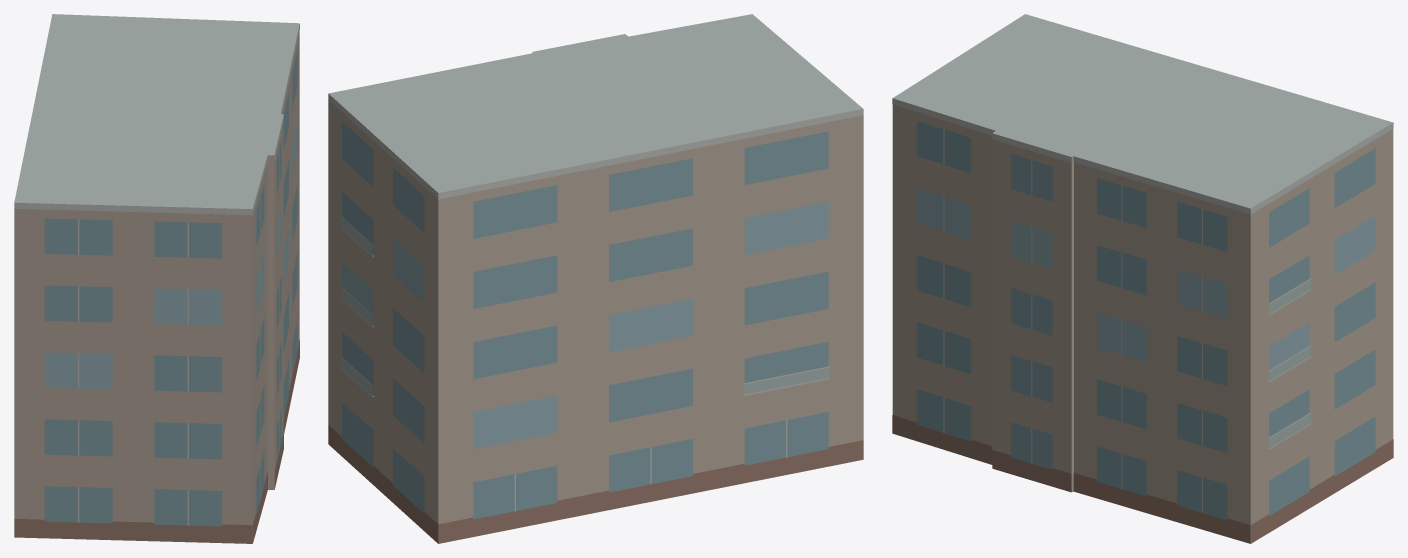
The model's file is survey-upis-32679835.glb.
3 renders of one model, left to right at view 1: azimuth 30°, elevation 25°; view 2: azimuth 150°, elevation 25°; view 3: azimuth 270°, elevation 25°, orthographic. The views are drawn at different scales.
Parts seen in each view (by area): view 1: survey-upis-32679835.tmp; view 2: survey-upis-32679835.tmp; view 3: survey-upis-32679835.tmp.
Boxes of the visible parts, x1,y1,x2,y2 form: survey-upis-32679835.tmp: (14, 14, 299, 543); survey-upis-32679835.tmp: (328, 14, 863, 543); survey-upis-32679835.tmp: (892, 14, 1393, 543).
Size of the model in its own units: 16.87 by 13.55 by 18.36.
